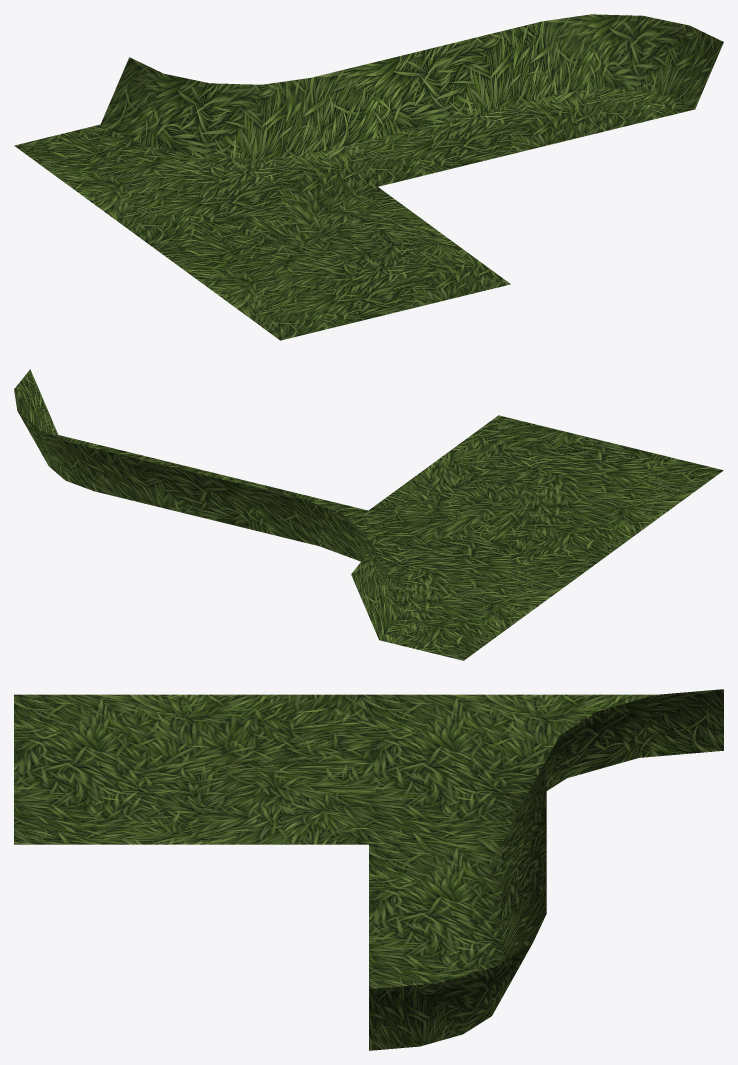
File: Tileset_Template.FBX
3 views of the same model, one above another, from view 1: azimuth 30°, elevation 25°; view 2: azimuth 150°, elevation 25°; view 3: azimuth 270°, elevation 25° (orthographic). The views are drawn at different scales.
Parts seen in each view (by area): view 1: CB, F, SB, ICB; view 2: F, CB, SB, ICB; view 3: F, CB, SB, ICB.
Part boxes in pixels (x1,y1,x2,y2): CB: (14, 57, 377, 242); F: (147, 187, 510, 340); SB: (311, 21, 608, 186); ICB: (542, 14, 723, 130); F: (369, 415, 723, 565); CB: (303, 499, 593, 660); SB: (78, 444, 367, 546); ICB: (14, 369, 142, 490); F: (14, 694, 368, 844); CB: (369, 689, 723, 844); SB: (369, 764, 546, 988); ICB: (369, 916, 545, 1050).
Bounding box in the file's own units: 250 × 200 × 25.
1 material, 1 textured.
